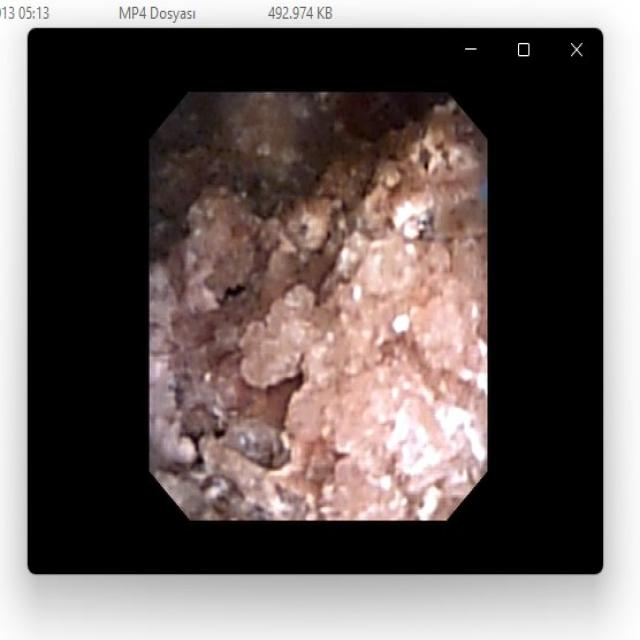stone: (159, 104, 481, 513)
